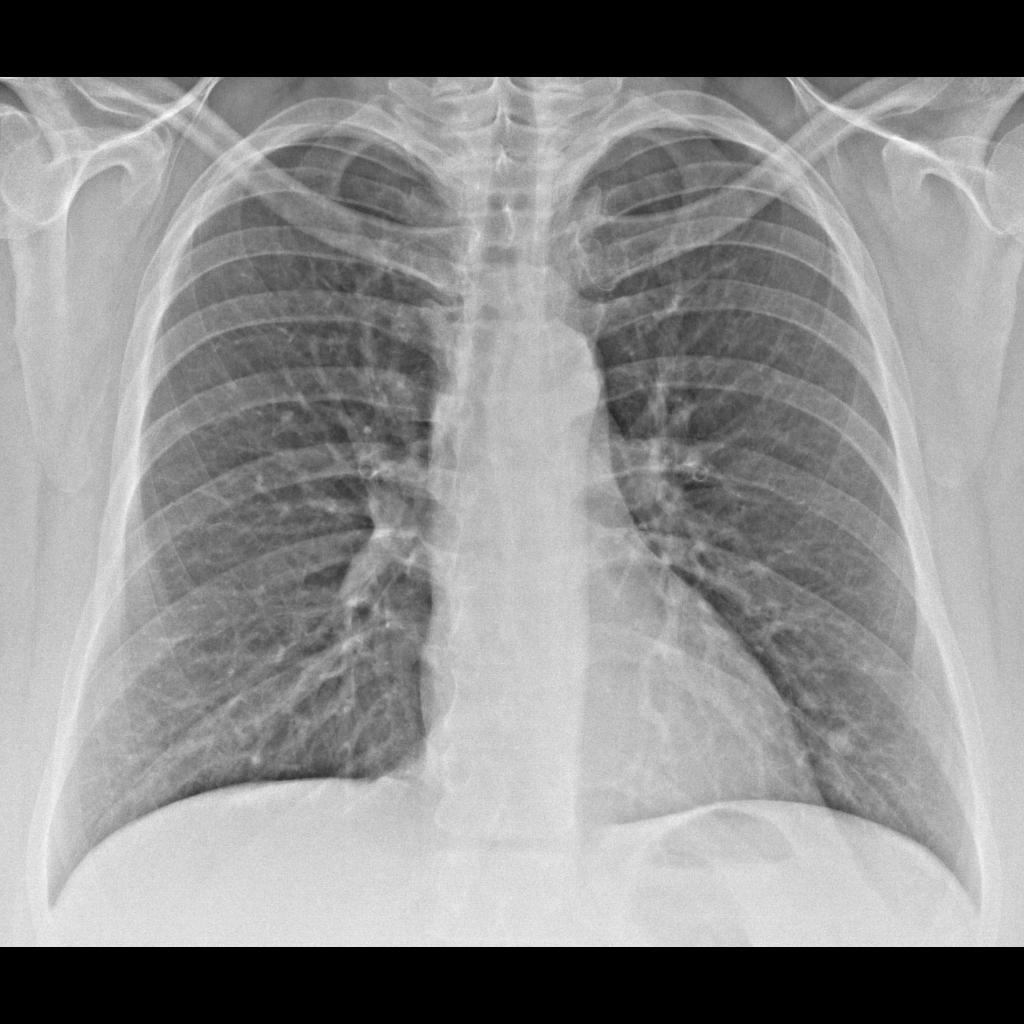Nodule: (815, 718, 872, 767)
